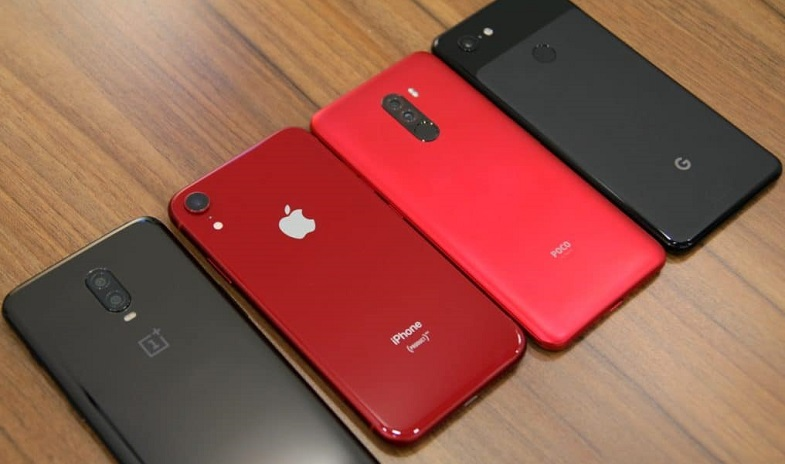apple: (268, 199, 341, 250)
